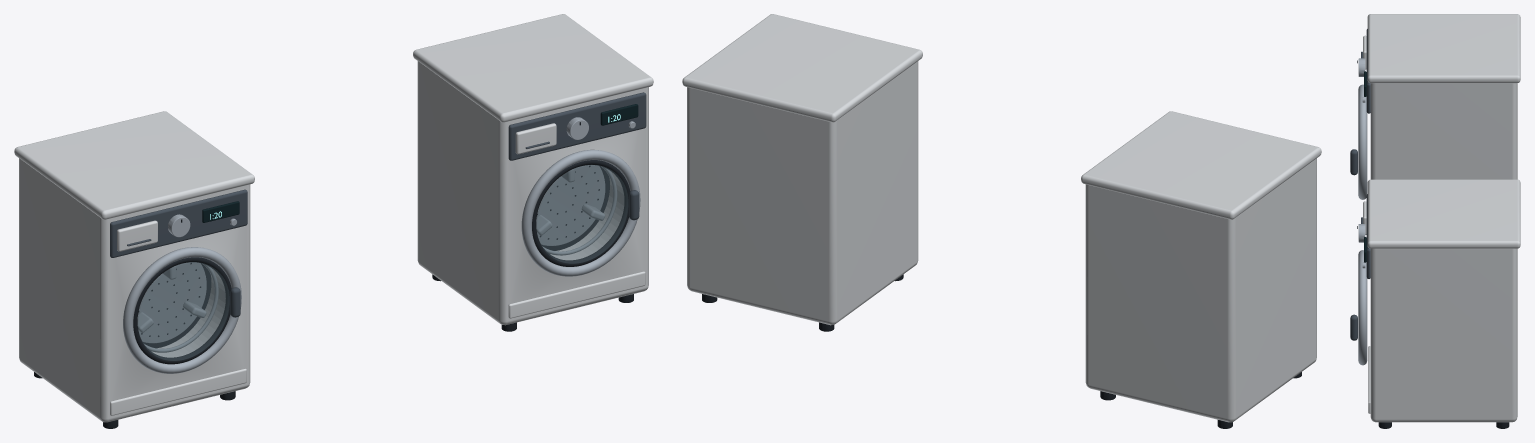
The model's file is Sandbox.glb.
The picture shows the model from 3 angles, left to right: view 1: azimuth 30°, elevation 25°; view 2: azimuth 150°, elevation 25°; view 3: azimuth 270°, elevation 25°; orthographic projection. The views are drawn at different scales.
Parts seen in each view (by area): view 1: Cube_001 (×2), Cube_002 (×2), Cylinder_003 (×2), Cylinder_002 (×2), Torus (×2), Cube_008 (×2), Cube_003 (×2), Torus_001 (×2), Cube_009 (×2), Torus_002 (×2); view 2: Cube_001 (×2), Cube_002 (×2); view 3: Cube_001 (×2), Cube_002 (×2), Torus (×2), Cube_008 (×2), Cube_007 (×2), Cube_003.
Boxes of the visible parts, left/top/right/bottom form: Cube_001 (×2): left=19, top=61, right=648, bottom=422; Cube_002 (×2): left=14, top=14, right=653, bottom=219; Cylinder_003 (×2): left=138, top=165, right=628, bottom=360; Cylinder_002 (×2): left=138, top=165, right=605, bottom=343; Torus (×2): left=123, top=149, right=640, bottom=373; Cube_008 (×2): left=110, top=92, right=646, bottom=257; Cube_003 (×2): left=110, top=271, right=645, bottom=415; Torus_001 (×2): left=133, top=160, right=630, bottom=364; Cube_009 (×2): left=117, top=123, right=556, bottom=251; Torus_002 (×2): left=144, top=166, right=617, bottom=352; Cube_001 (×2): left=687, top=61, right=1316, bottom=422; Cube_002 (×2): left=682, top=14, right=1321, bottom=219; Cube_001 (×2): left=1370, top=83, right=1517, bottom=422; Cube_002 (×2): left=1367, top=14, right=1520, bottom=248; Torus (×2): left=1358, top=84, right=1367, bottom=365; Cube_008 (×2): left=1366, top=29, right=1370, bottom=278; Cube_007 (×2): left=1350, top=149, right=1357, bottom=340; Cube_003: left=1368, top=346, right=1370, bottom=413.
Size of what is drawn, in the model's own units: 2.22 by 0.8645 by 0.695.
